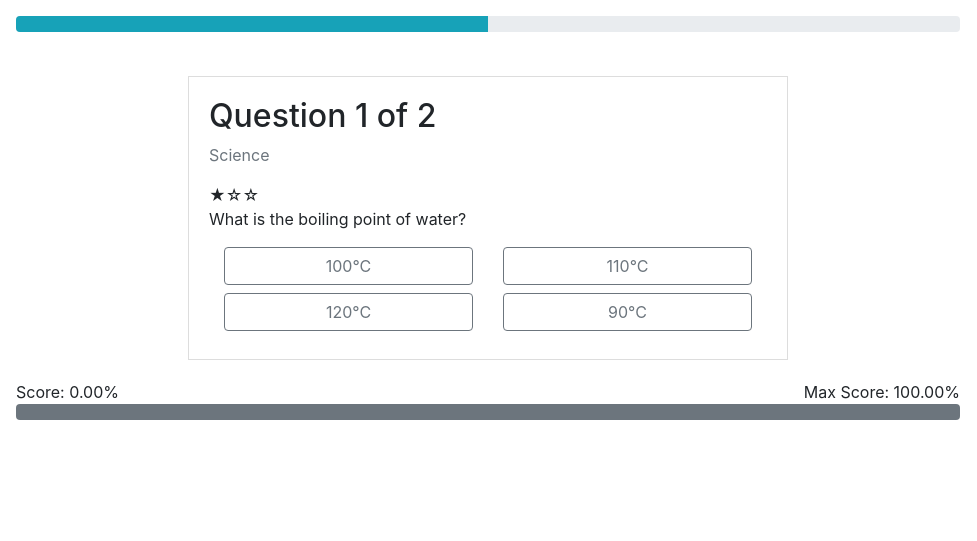
QuestionComponent › navigates to the next question when "Next Question" is clicked
The width and height of the screenshot is (977, 541).
Click the button "100°C". click: (348, 266)
box: [224,247,473,285]
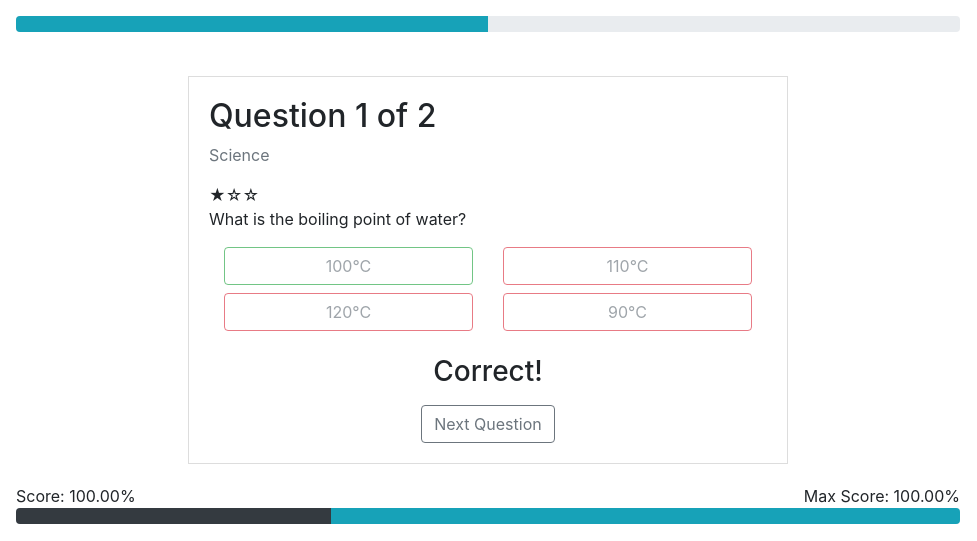
Click the button "Next Question". click: (488, 424)
box: [421,405,555,443]
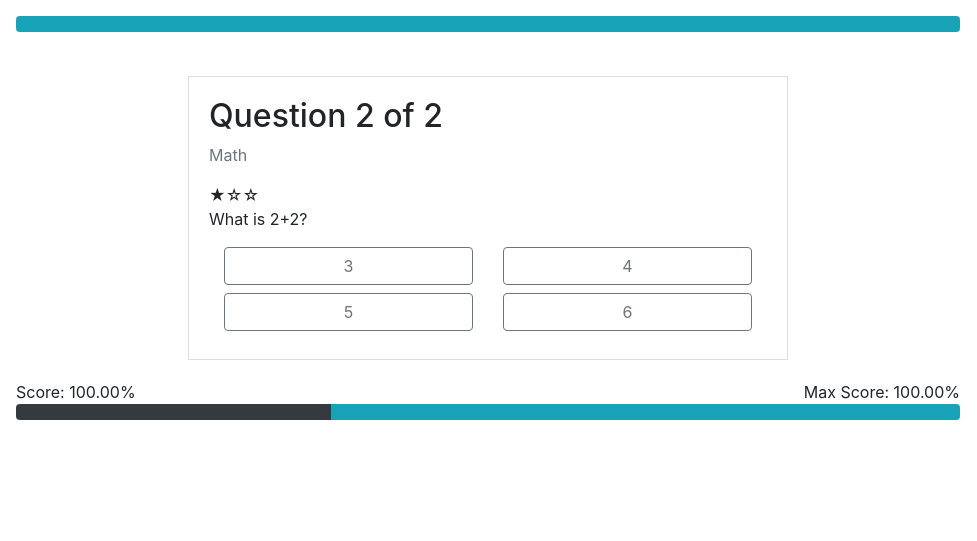
Result: the heading "Question 2 of 2" is shown at [209,96,443,135]
Result: the text "What is 2+2?" is shown at [209,209,308,229]
